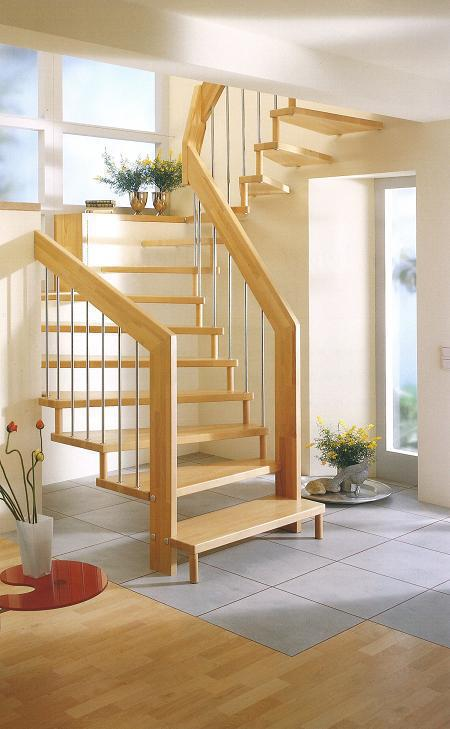Escaleras: (23, 85, 341, 564)
